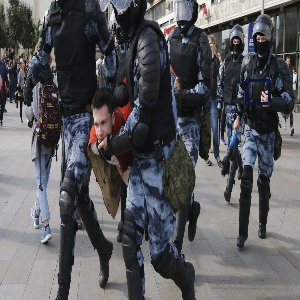square: (243, 79, 270, 106)
